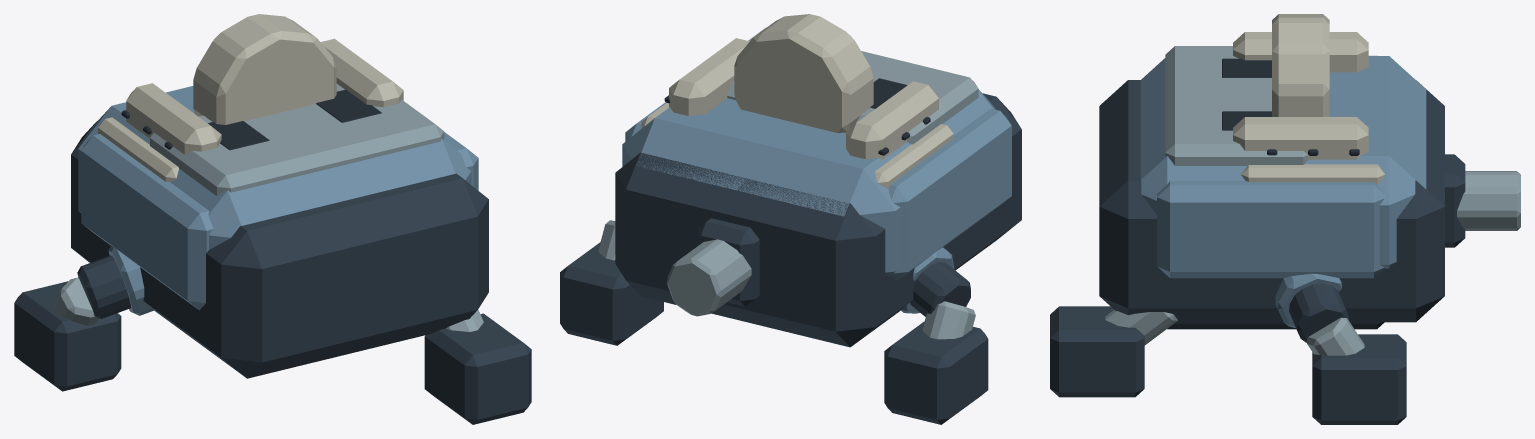
The model's file is sentinel.glb.
3 renders of one model, left to right at view 1: azimuth 30°, elevation 25°; view 2: azimuth 150°, elevation 25°; view 3: azimuth 270°, elevation 25°, orthographic. The views are drawn at different scales.
Parts seen in each view (by area): view 1: L0_Chassis, L0_Turret, L2_Hip0, L2_Hip2, L0_Hip2; view 2: L0_Chassis, L0_Turret, L2_Hip2, L2_Hip1, L0_Weapon, L0_Hip2; view 3: L0_Chassis, L0_Turret, L2_Hip0, L2_Hip1, L0_Weapon, L0_Hip1.
Part boxes in pixels (bbox=[...]): L0_Chassis: bbox=[71, 84, 488, 378]; L0_Turret: bbox=[126, 14, 403, 154]; L2_Hip0: bbox=[424, 309, 531, 424]; L2_Hip2: bbox=[14, 277, 121, 391]; L0_Hip2: bbox=[77, 246, 154, 318]; L0_Chassis: bbox=[615, 28, 1021, 347]; L0_Turret: bbox=[669, 14, 938, 159]; L2_Hip2: bbox=[884, 301, 988, 424]; L2_Hip1: bbox=[560, 220, 663, 345]; L0_Weapon: bbox=[667, 218, 759, 316]; L0_Hip2: bbox=[900, 247, 970, 316]; L0_Chassis: bbox=[1099, 46, 1444, 329]; L0_Turret: bbox=[1222, 14, 1368, 159]; L2_Hip0: bbox=[1050, 306, 1177, 397]; L2_Hip1: bbox=[1307, 317, 1406, 424]; L0_Weapon: bbox=[1445, 154, 1520, 247]; L0_Hip1: bbox=[1275, 273, 1349, 342].
Size of the model in its own units: 1.08 by 0.8451 by 1.15.
